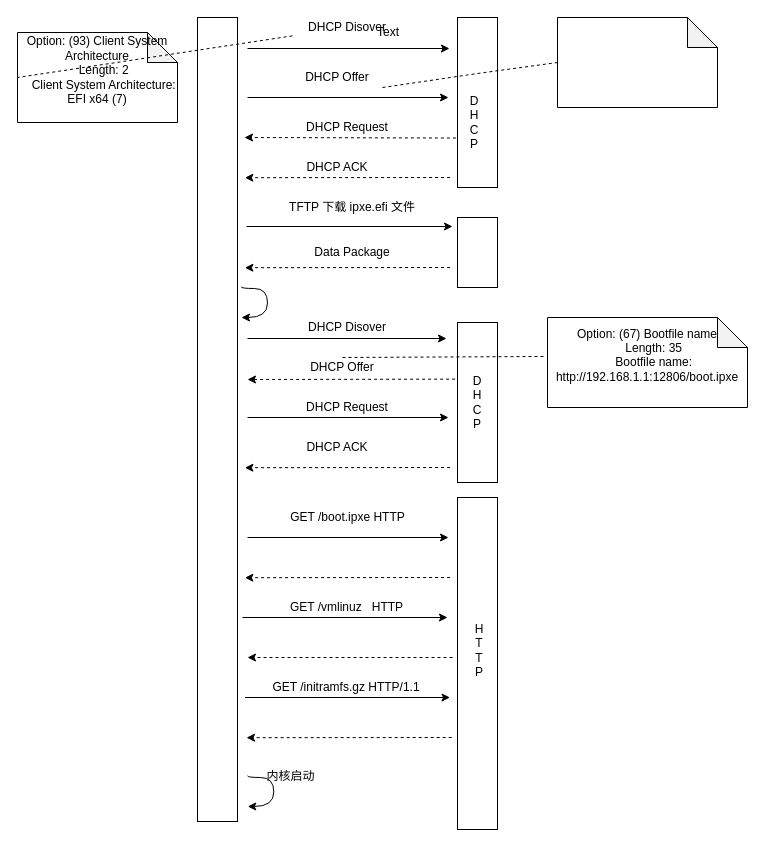
Some shapes in this 765 by 847 pixel diagram are drawn without their labels. The centre of each missing label's shape, as x and y in pixels:
"Option: (67) Bootfile name Length: 9 Bootfile name: ipxe.efi" belongs at (637,62).
"T F T P" belongs at (477,252).
